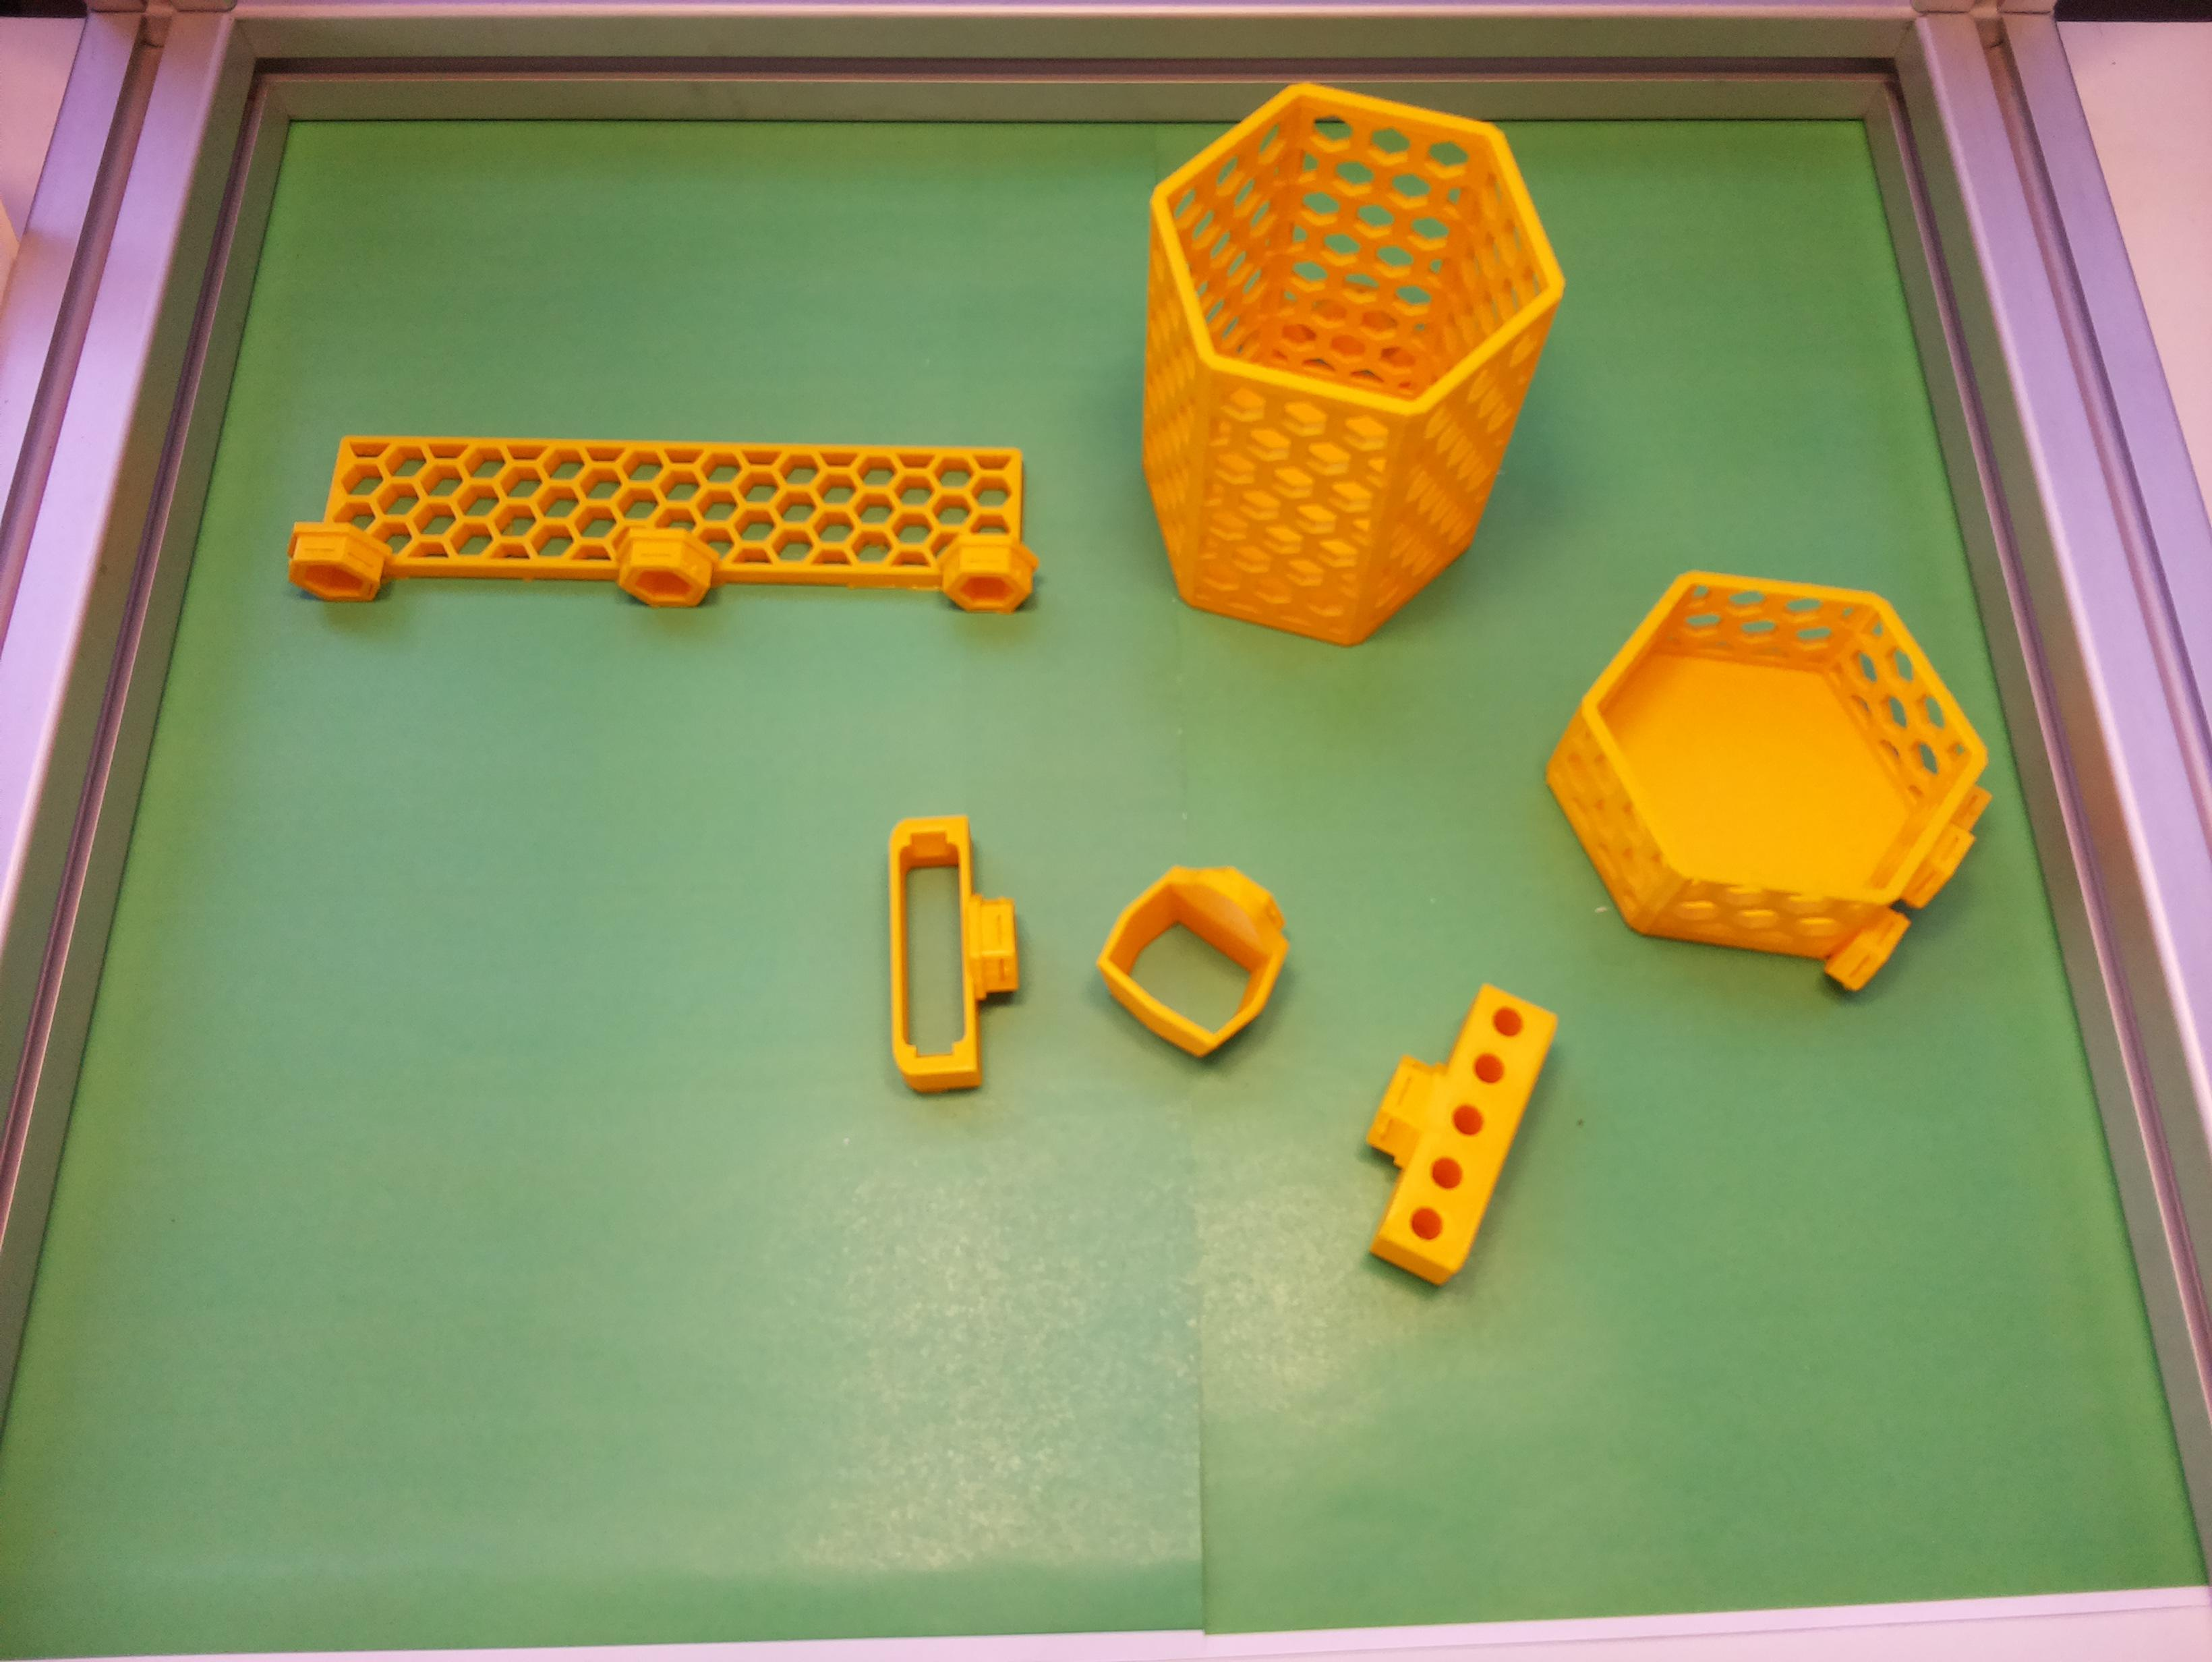bit_holder: (1327, 964, 1563, 1292)
bottle_holder: (1491, 491, 2060, 1063)
cup_holder: (1067, 54, 1594, 674)
cutter_holder: (880, 814, 1025, 1096)
scissor_holder: (1077, 833, 1316, 1074)
tool_holder: (288, 433, 1039, 616)
